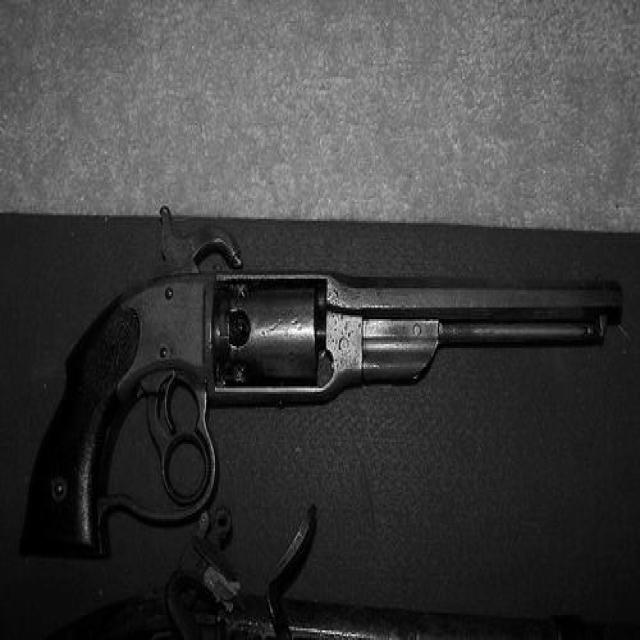gun: (22, 211, 623, 558)
